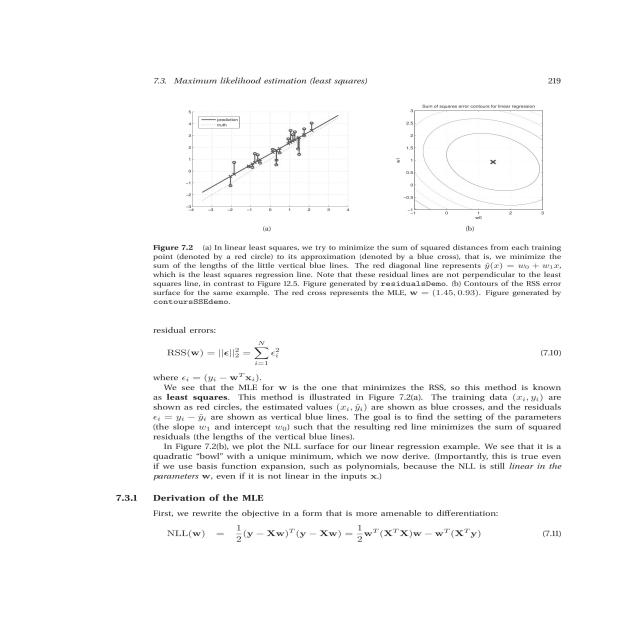diagram: (148, 90, 640, 300)
